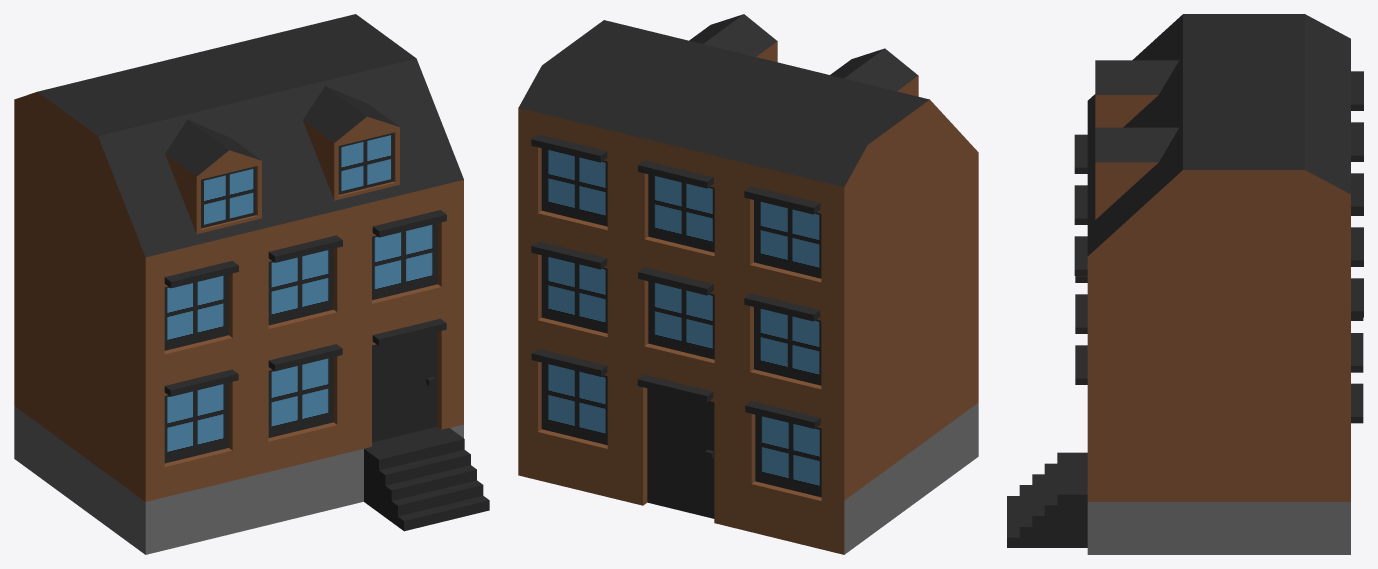
Rendered from NormalSquereBrown.obj.
3 views of the same model, side by side, from view 1: azimuth 30°, elevation 25°; view 2: azimuth 150°, elevation 25°; view 3: azimuth 270°, elevation 25° (orthographic). The views are drawn at different scales.
Parts seen in each view (by area): view 1: ZwyklayKwadratowyBrazowy.001; view 2: ZwyklayKwadratowyBrazowy.001; view 3: ZwyklayKwadratowyBrazowy.001.
Boxes of the visible parts, x1,y1,x2,y2 form: ZwyklayKwadratowyBrazowy.001: (14,14,489,554); ZwyklayKwadratowyBrazowy.001: (518,14,978,554); ZwyklayKwadratowyBrazowy.001: (1007,14,1363,554).
Size of the model in its own units: 7 by 8.07 by 6.78.
